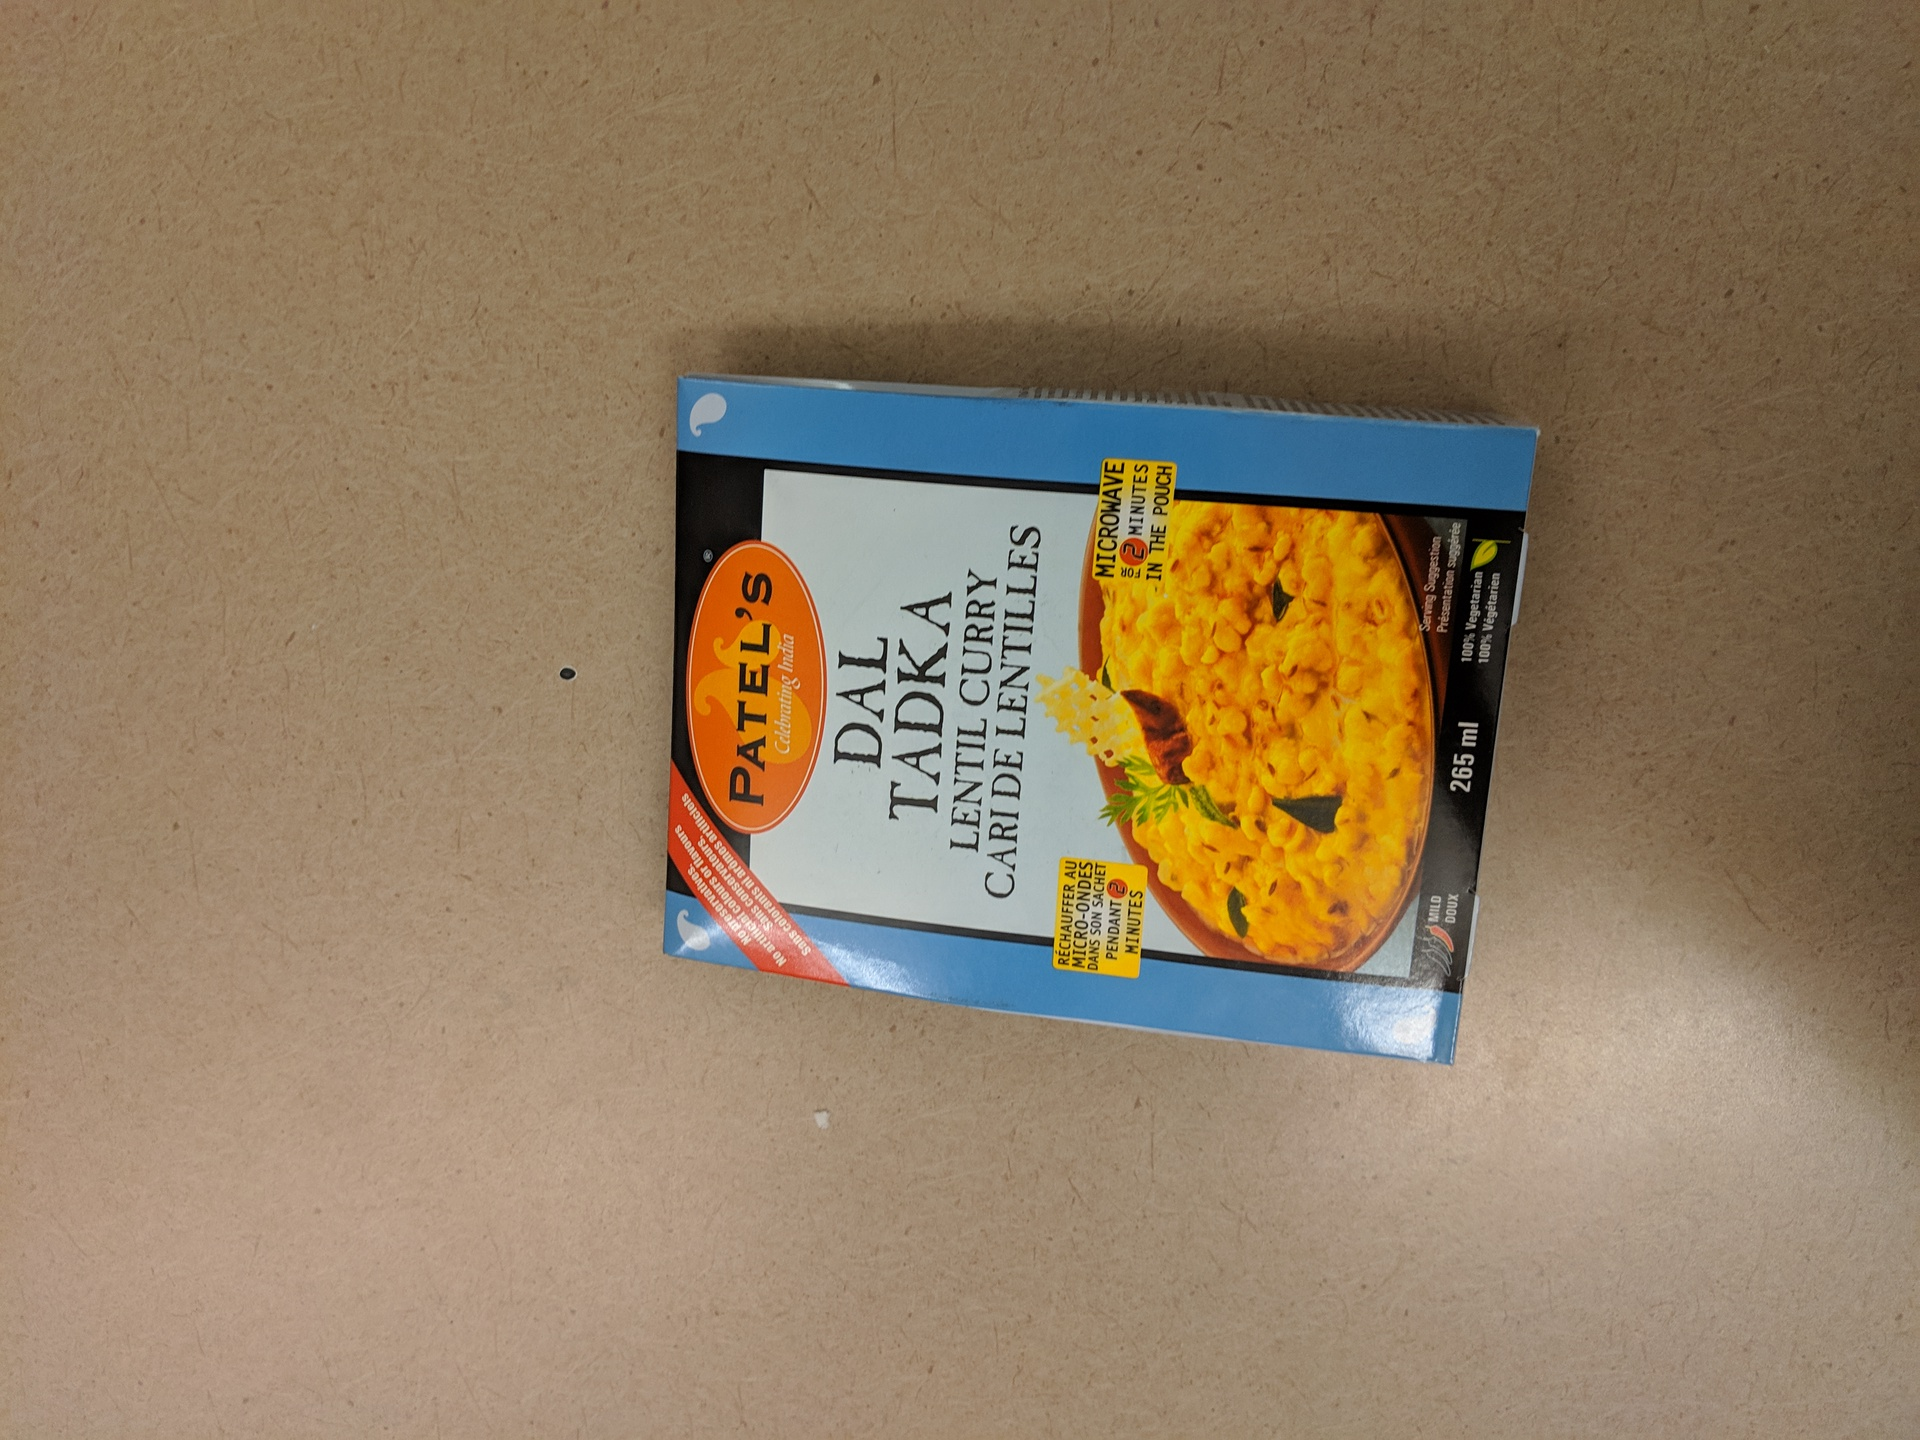patels_dal_tadka_lentil_curry: (649, 360, 1544, 1072)
